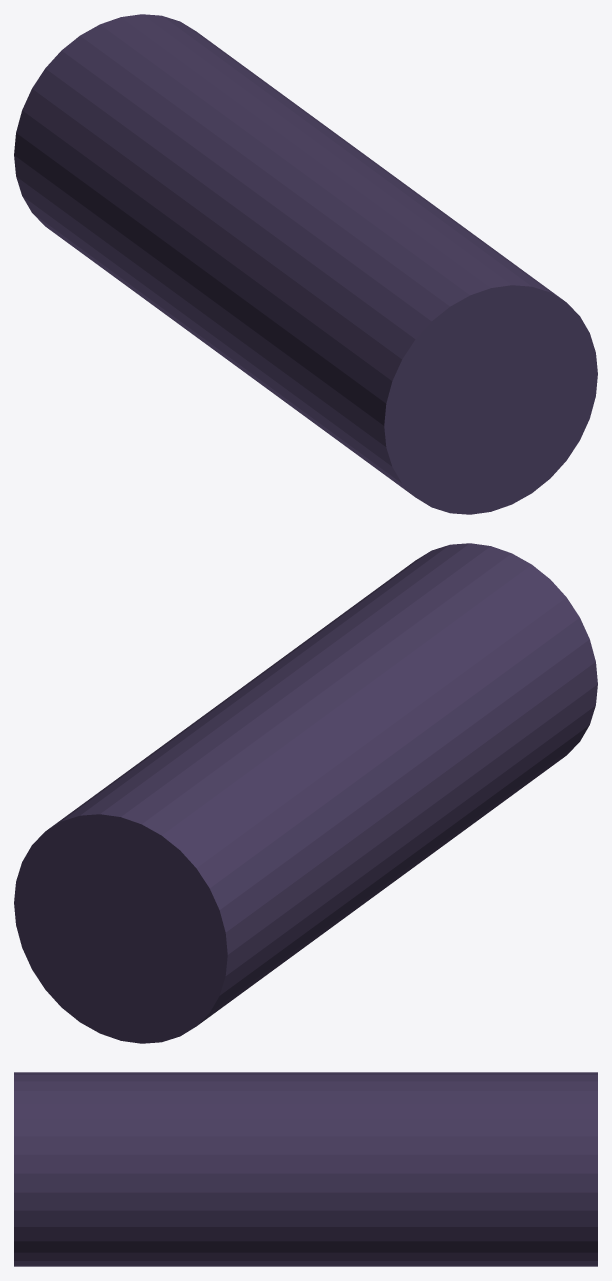
Rendered from CH_TrailGunship_LOD0.glb.
The picture shows the model from 3 angles, top to bottom: view 1: azimuth 30°, elevation 25°; view 2: azimuth 150°, elevation 25°; view 3: azimuth 270°, elevation 25°; orthographic projection. The views are drawn at different scales.
Visible parts, largest first — view 1: Cylinder; view 2: Cylinder; view 3: Cylinder.
Boxes of the visible parts, x1,y1,x2,y2 form: Cylinder: (14, 14, 597, 514); Cylinder: (14, 543, 597, 1043); Cylinder: (14, 1072, 597, 1266).
Bounding box in the file's own units: 1.2 × 1.2 × 3.6.
